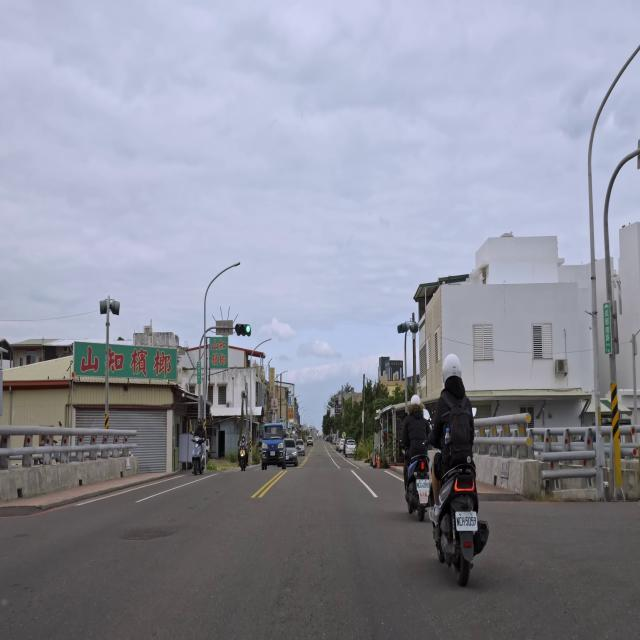green light: (234, 323, 252, 337)
